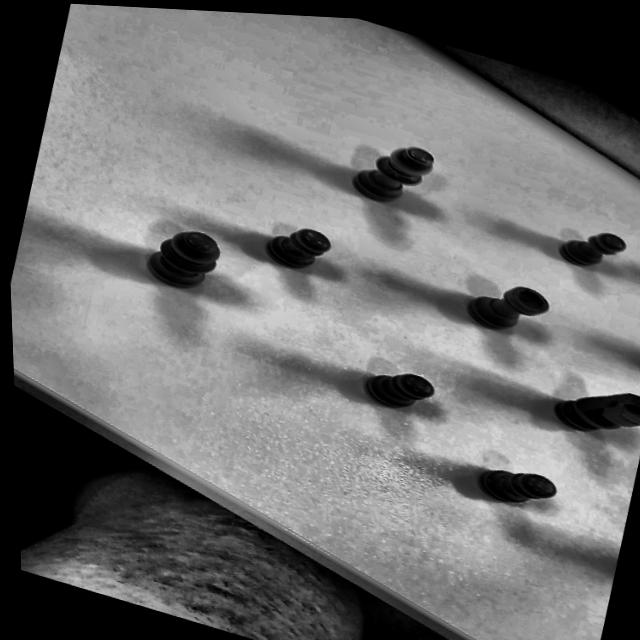black-bishop: (124, 200, 239, 307), (335, 123, 450, 228)
black-knight: (539, 358, 640, 452)
black-pawn: (456, 445, 585, 532), (342, 350, 455, 431), (542, 212, 640, 297), (254, 210, 349, 291)
black-rook: (451, 265, 564, 355)
